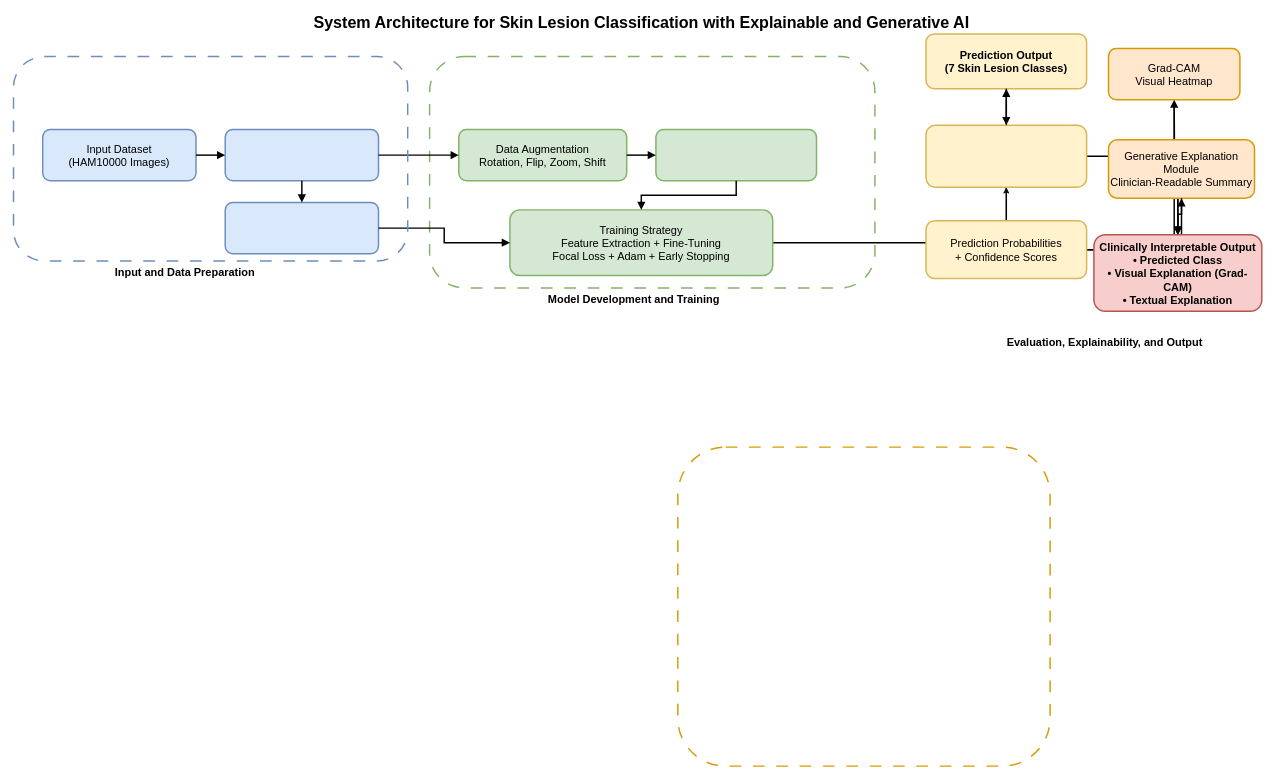
This 1275x779 diagram has some shape labels left out. Here are the shapes that lost their labels. From the top down, the box of each, then its label:
(224, 128, 379, 181): Preprocessing Resize + Normalize
(655, 128, 817, 181): EfficientNetB0 Transfer Learning
(925, 124, 1087, 188): Evaluation Metrics Accuracy, F1-score, Confusion Matrix
(224, 201, 379, 254): Train / Validation Split (80% / 20%)
